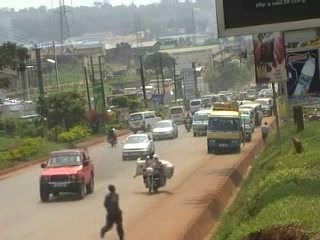Car: (120, 130, 155, 162), (149, 117, 180, 140)
Motorcycle: (133, 152, 175, 196), (104, 125, 119, 148), (182, 112, 193, 133)
